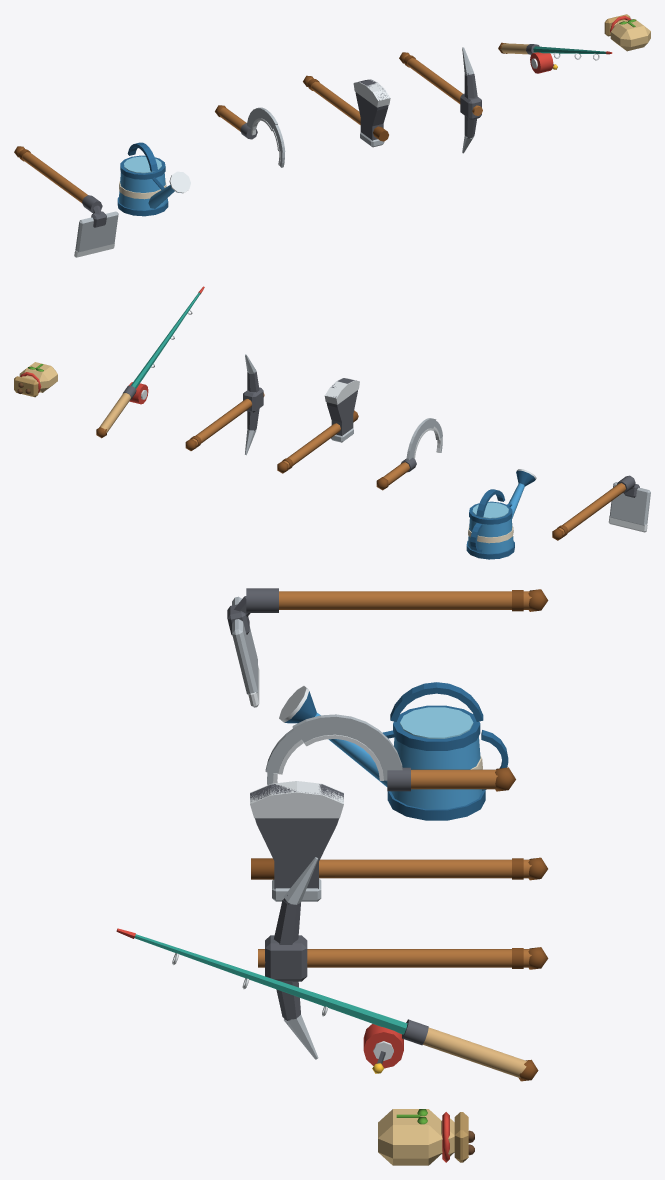
Rendered from tools.glb.
3 renders of one model, top to bottom at view 1: azimuth 30°, elevation 25°; view 2: azimuth 150°, elevation 25°; view 3: azimuth 270°, elevation 25°, orthographic. The views are drawn at different scales.
Visible parts, largest first — view 1: Tool_watering_can, Tool_hoe, Tool_axe, Tool_pickaxe, Tool_fishing_rod, Tool_sickle, Tool_seed; view 2: Tool_watering_can, Tool_hoe, Tool_axe, Tool_pickaxe, Tool_fishing_rod, Tool_sickle, Tool_seed; view 3: Tool_axe, Tool_watering_can, Tool_pickaxe, Tool_hoe, Tool_fishing_rod, Tool_sickle, Tool_seed.
Boxes of the visible parts, left/top/right/bottom form: Tool_watering_can: left=117, top=142, right=190, bottom=216; Tool_hoe: left=14, top=146, right=118, bottom=257; Tool_axe: left=303, top=75, right=390, bottom=147; Tool_pickaxe: left=399, top=47, right=482, bottom=153; Tool_fishing_rod: left=498, top=42, right=612, bottom=73; Tool_sickle: left=215, top=105, right=285, bottom=167; Tool_seed: left=604, top=14, right=650, bottom=51; Tool_watering_can: left=466, top=469, right=536, bottom=559; Tool_hoe: left=552, top=475, right=650, bottom=540; Tool_axe: left=277, top=378, right=359, bottom=473; Tool_pickaxe: left=185, top=354, right=264, bottom=455; Tool_fishing_rod: left=96, top=286, right=204, bottom=438; Tool_sickle: left=376, top=418, right=442, bottom=490; Tool_seed: left=14, top=362, right=57, bottom=397; Tool_axe: left=250, top=781, right=547, bottom=901; Tool_watering_can: left=279, top=682, right=508, bottom=820; Tool_pickaxe: left=258, top=857, right=548, bottom=1059; Tool_hoe: left=227, top=588, right=548, bottom=707; Tool_fishing_rod: left=116, top=928, right=538, bottom=1081; Tool_sickle: left=265, top=714, right=515, bottom=791; Tool_seed: left=378, top=1109, right=474, bottom=1165.
Bounding box in the file's own units: 2.86 × 0.5393 × 0.9178.
